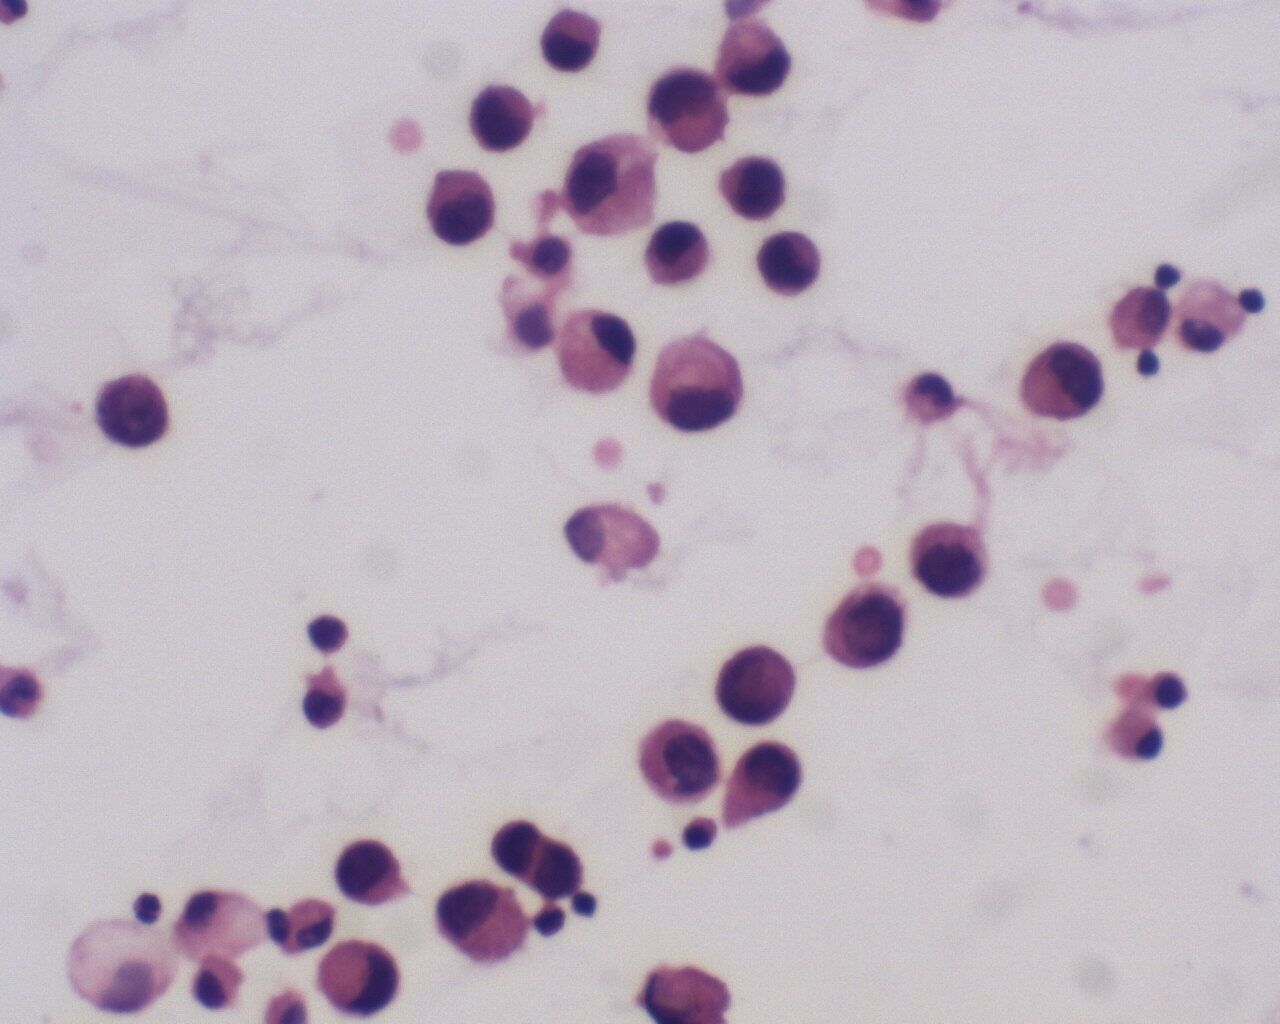ab: (487, 816, 590, 903), (820, 576, 908, 677), (434, 878, 529, 970), (1015, 340, 1107, 429), (638, 719, 727, 810), (645, 67, 731, 160), (94, 366, 178, 459), (907, 513, 996, 599), (720, 15, 812, 96), (715, 644, 800, 730), (318, 939, 403, 1018), (428, 167, 501, 250), (641, 214, 715, 293), (466, 82, 541, 158), (333, 835, 408, 907), (719, 150, 790, 226), (757, 228, 830, 298)
histo: (170, 886, 272, 961), (557, 305, 639, 397)
lymph: (306, 613, 354, 657)
neutro: (130, 887, 166, 925)
